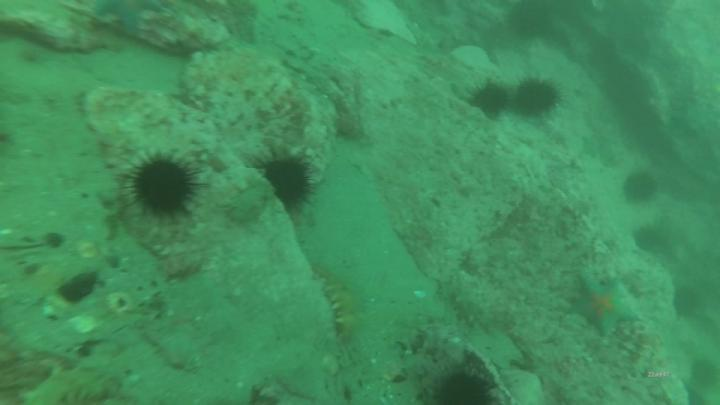echinus: (122, 146, 204, 229), (255, 144, 316, 216), (424, 360, 497, 405), (514, 73, 564, 121), (464, 74, 510, 123), (506, 1, 556, 44), (623, 167, 663, 208), (673, 283, 705, 322), (630, 223, 666, 254)
holothurian: (307, 260, 364, 350), (23, 365, 141, 405)
starfish: (571, 265, 642, 341), (92, 1, 182, 43)
